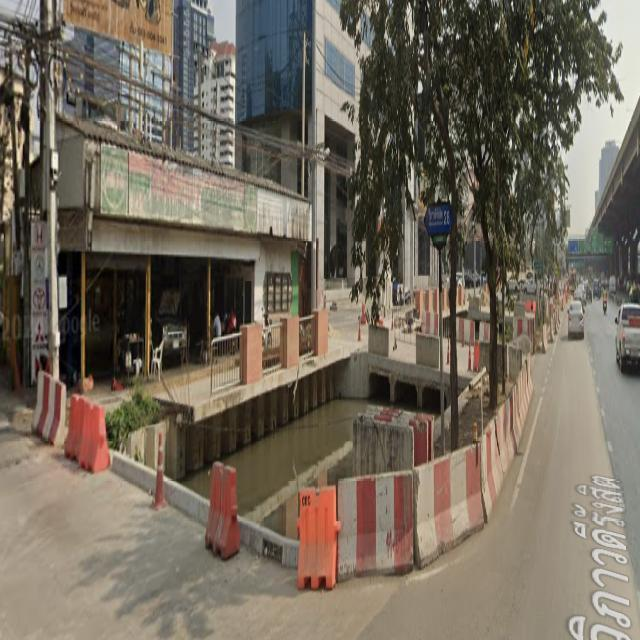fallen_object: (279, 439, 408, 593), (386, 409, 512, 556), (33, 370, 108, 480), (189, 450, 257, 570), (487, 337, 546, 467), (132, 413, 176, 521)
